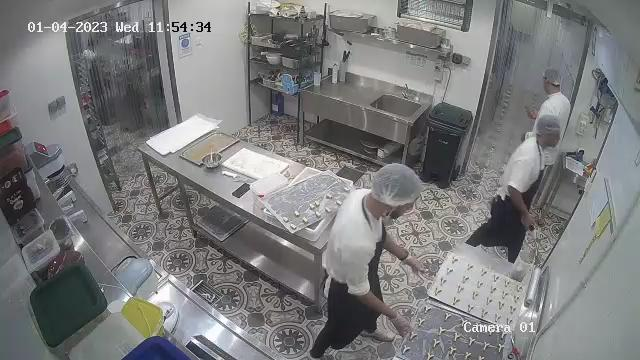apron: (333, 218, 387, 308), (505, 136, 553, 228)
